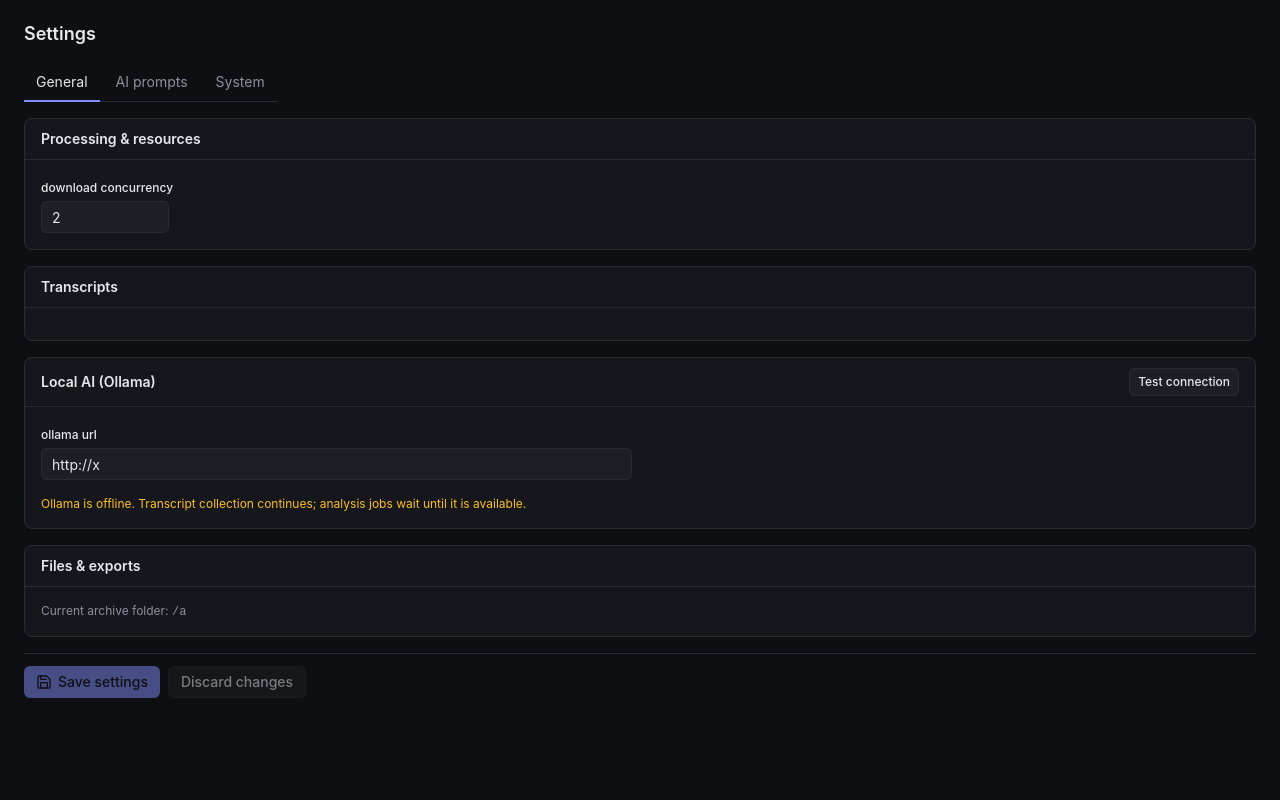
Test case: settings validation › blocks saving invalid values and shows server field errors
This screenshot has width=1280, height=800.
Replace the text in the number field labelled "download concurrency" with "20": {"x": 105, "y": 217} [41,201,169,233]
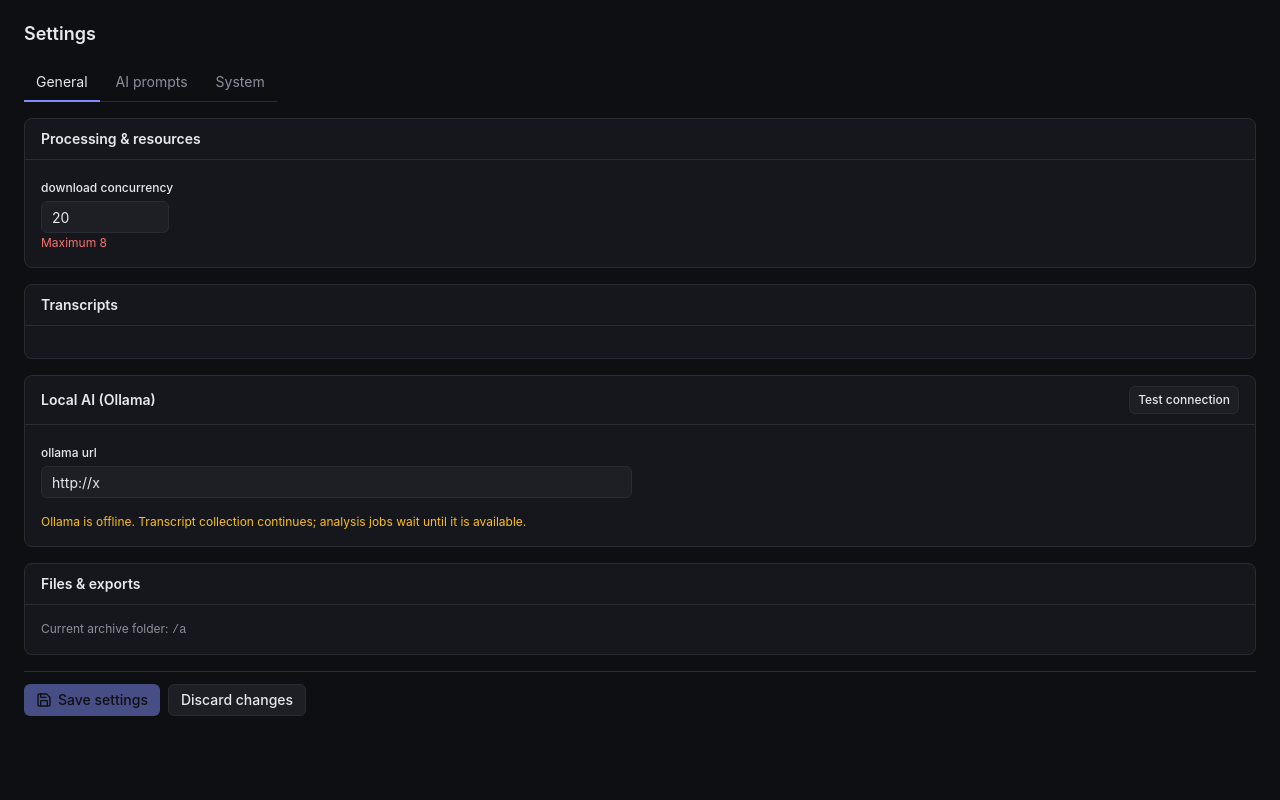
Check: the button "Save settings" is disabled, box [24,684,160,716]
Check: the text "Maximum 8" is shown, box [41,235,107,250]
Replace the text in the number field labelled "download concurrency" with "3": {"x": 105, "y": 217} [41,201,169,233]
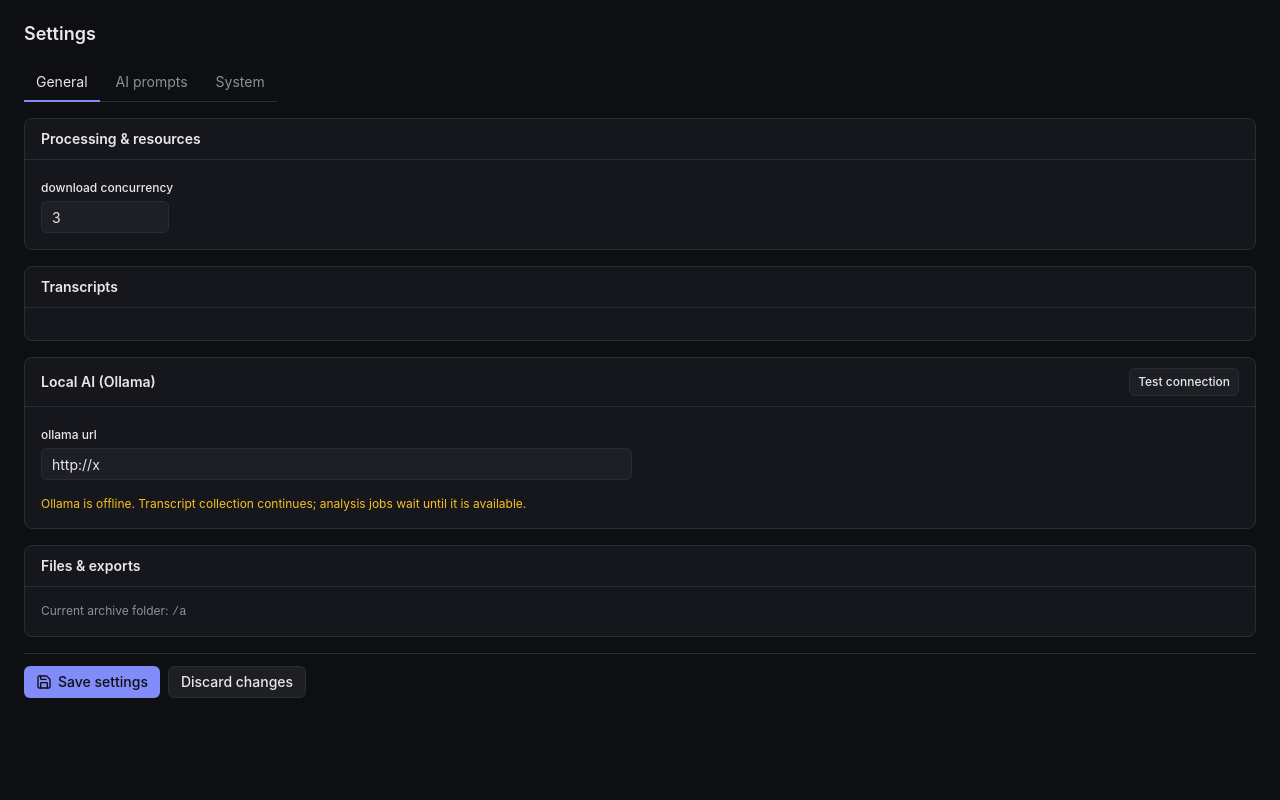
Replace the text in the field labelled "ollama url" with "ftp://bad": {"x": 336, "y": 464} [41,448,632,480]
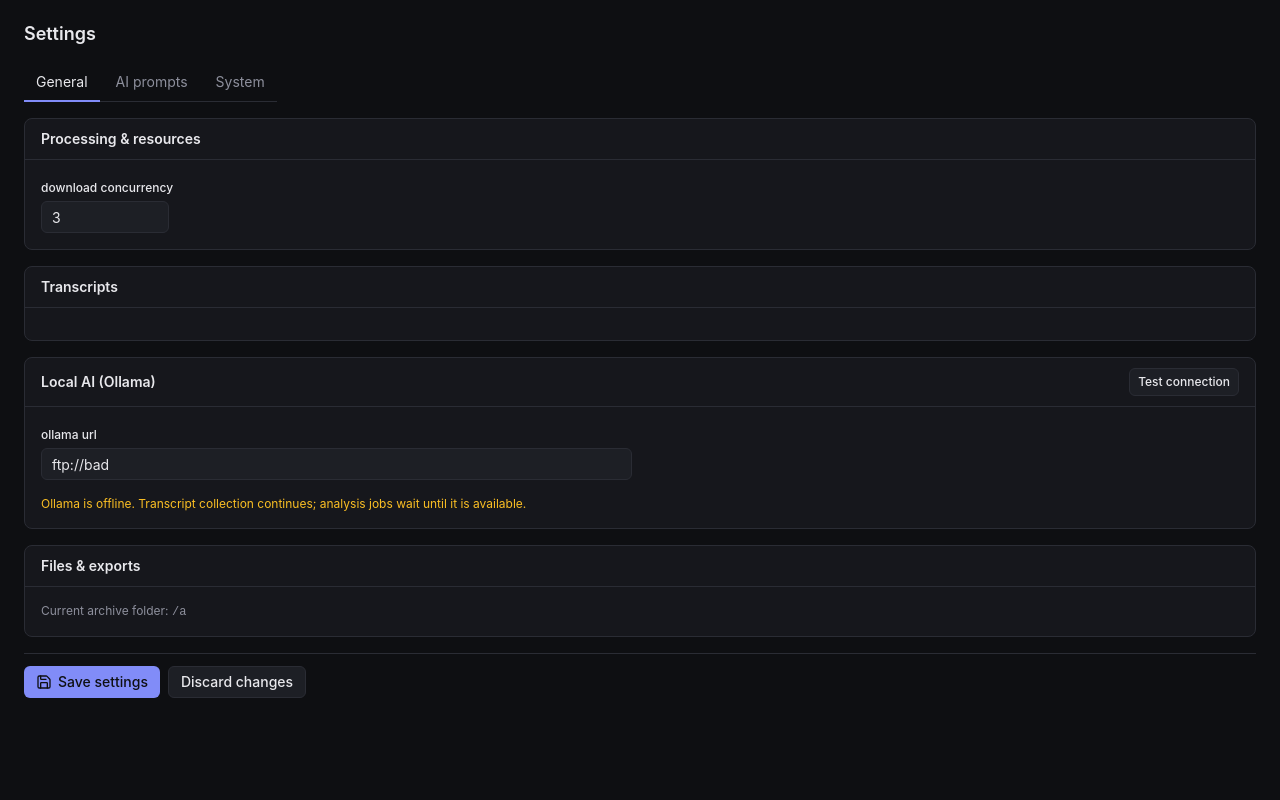
Click the button "Save settings": {"x": 92, "y": 682} [24,666,160,698]
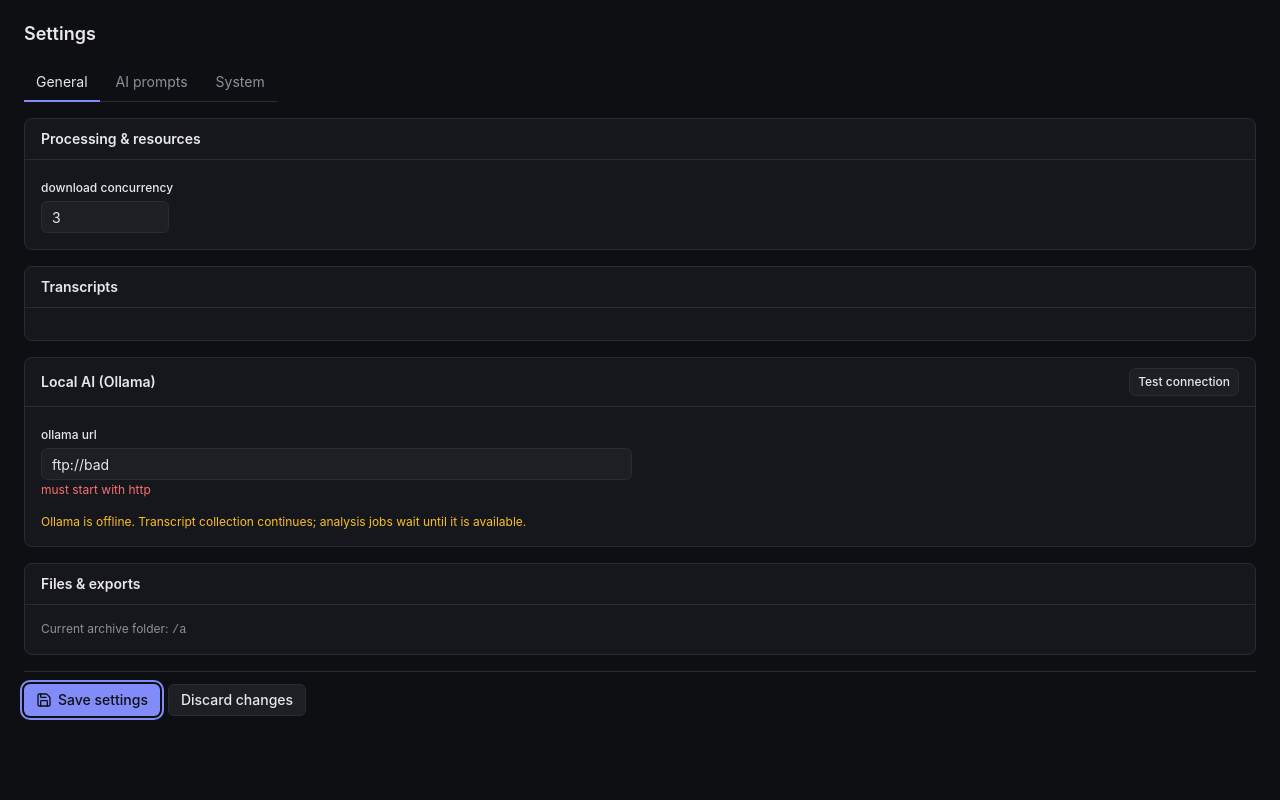
Check: the text "must start with http" is shown, box [41,482,151,497]
